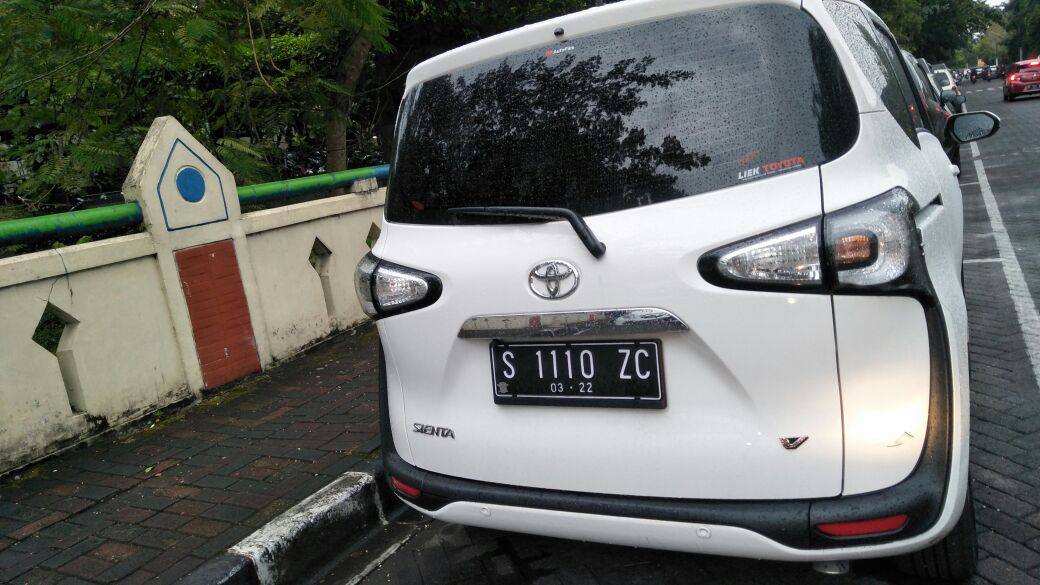plate: (489, 341, 662, 406)
